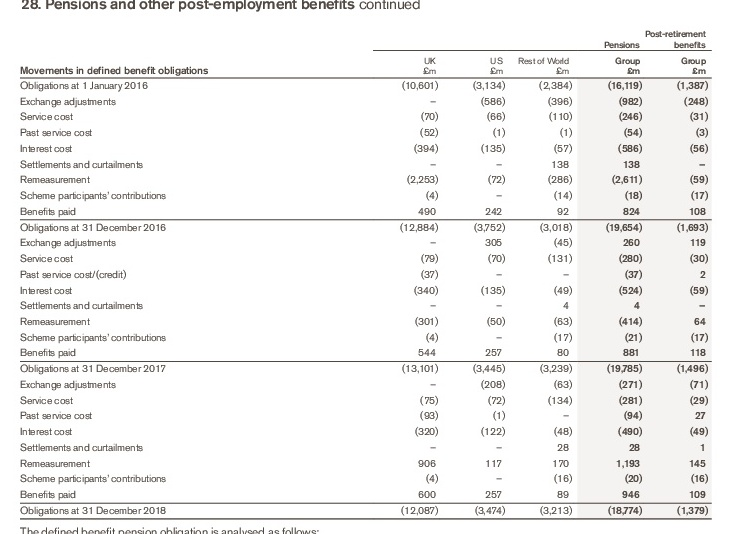table: (0, 0, 730, 534)
